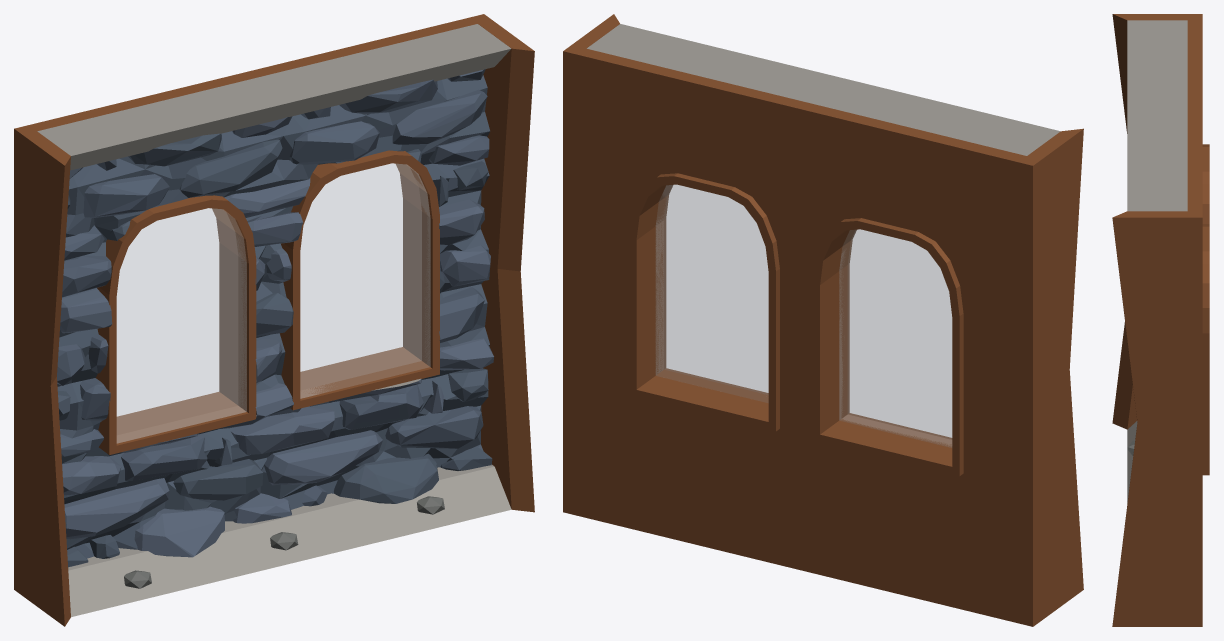
File: Wall_and_two_windows.glb
3 renders of one model, left to right at view 1: azimuth 30°, elevation 25°; view 2: azimuth 150°, elevation 25°; view 3: azimuth 270°, elevation 25°, orthographic. The views are drawn at different scales.
Visible parts, largest first — view 1: Cube.061; view 2: Cube.061; view 3: Cube.061.
Part boxes in pixels (<box>): Cube.061: <box>14,14,534,626</box>; Cube.061: <box>563,14,1083,626</box>; Cube.061: <box>1112,14,1209,626</box>.
Size of the model in its own units: 6.4 by 6 by 1.29.
